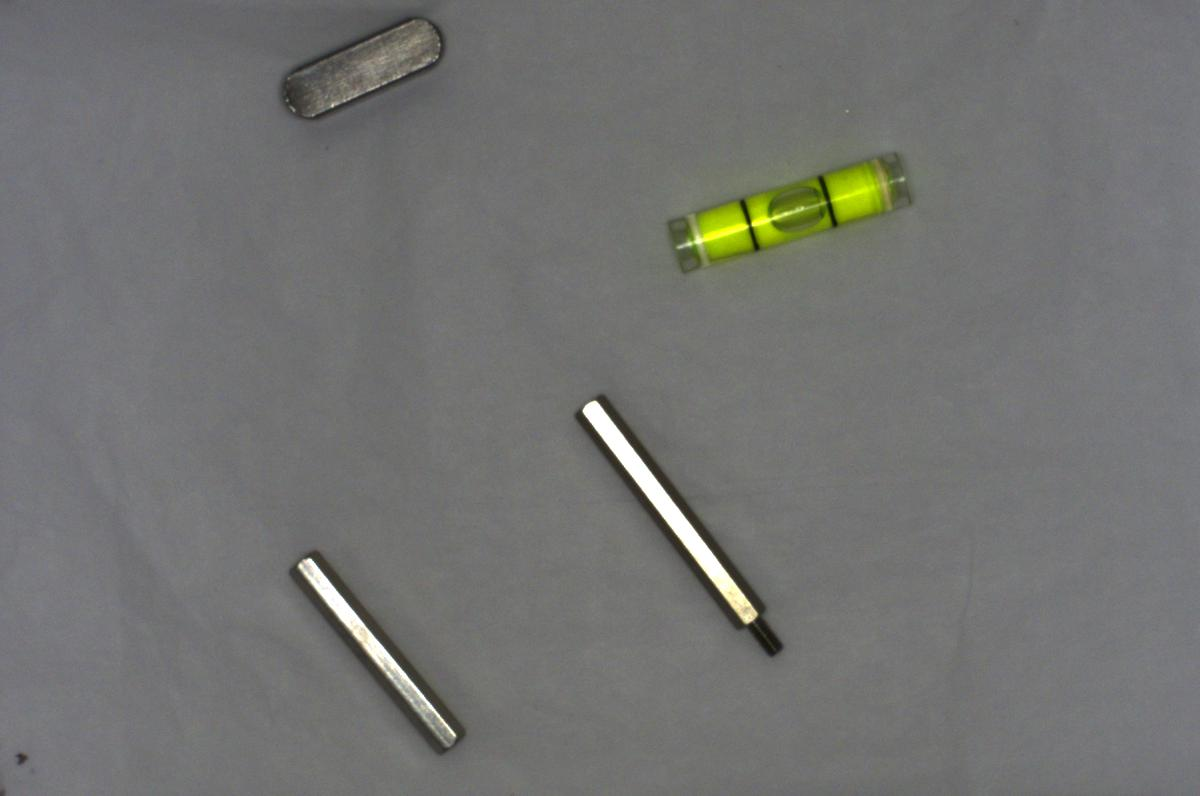Double hexagonal column: (290, 546, 467, 759)
Hexagonal steel column: (568, 388, 791, 660)
Horizontal bubble: (654, 148, 924, 278)
Keybar: (272, 14, 446, 130)
